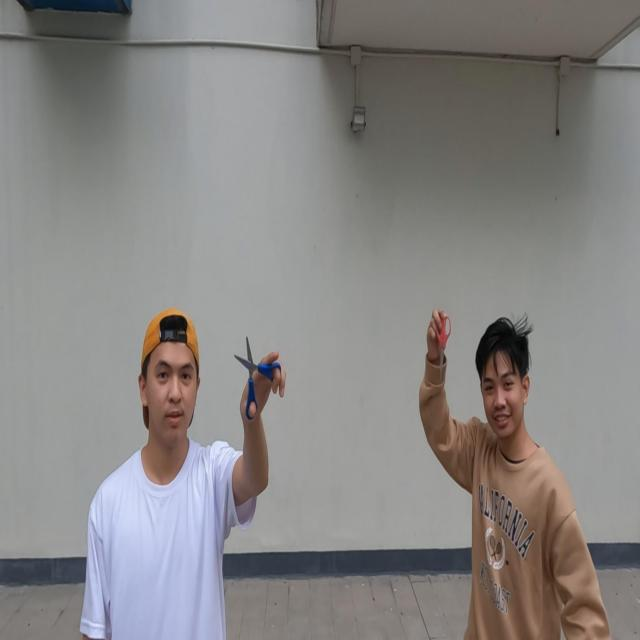scissor: (233, 336, 282, 420), (434, 314, 452, 384)
